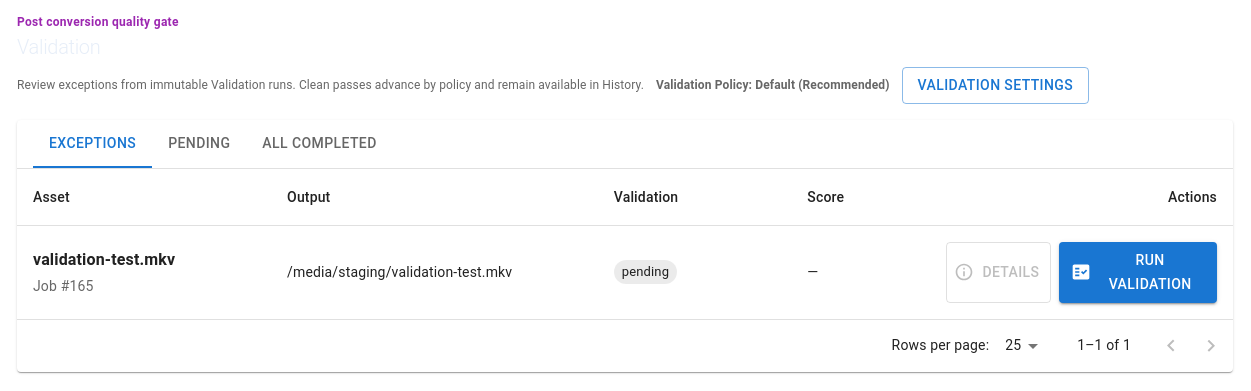
Test case: ValidationPage request errors › keeps a normal failed Validation result separate from request errors
What coordinates should you click on to do the following:
click the button "Run validation"
I would click on:
 (1138, 272)
Its box is [1059,242,1217,302].
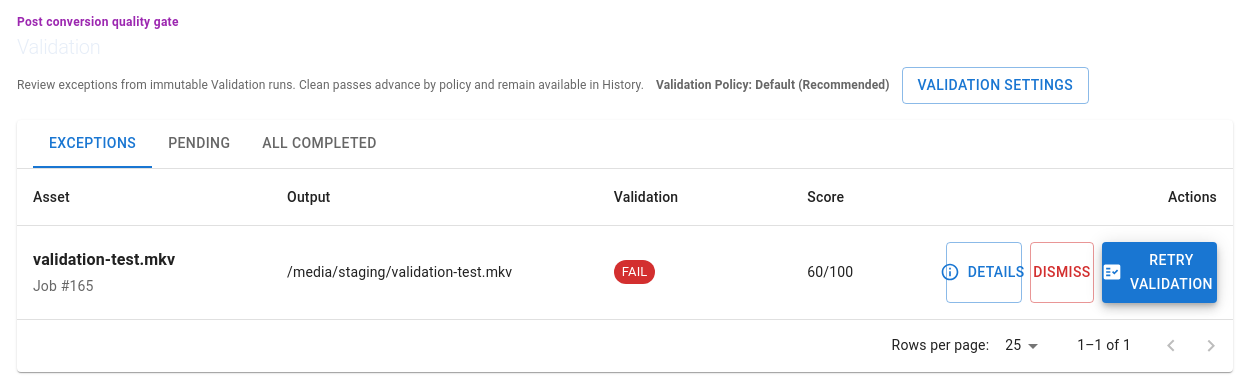
expect the text "FAIL" is shown: met, box [622,264,648,279]
expect the text "60/100" is shown: met, box [791,225,930,319]
